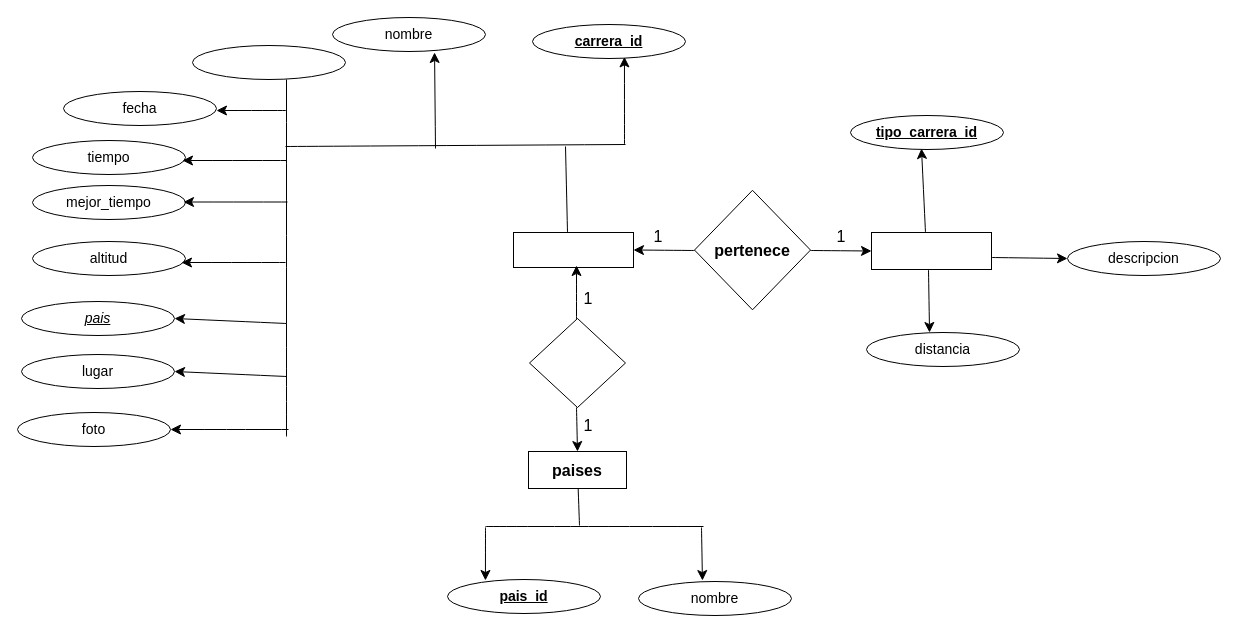
The diagram is 1238 pixels wide and 633 high, and some of its shapes have lost their labels. Each missing label, with the centre of its shape:
"carreras" goes at (573,250).
"se corre" goes at (577,363).
"tipo_carrera" goes at (269,62).
"tipo_carreras" goes at (931,251).
